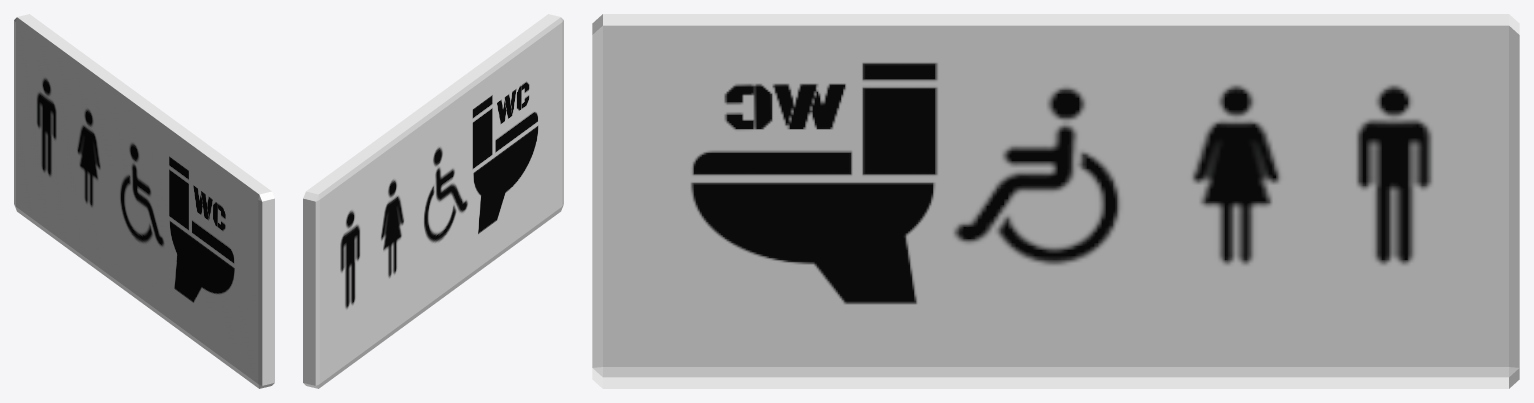
Rendered from WC_Sign.FBX.
The picture shows the model from 3 angles, left to right: view 1: azimuth 30°, elevation 25°; view 2: azimuth 150°, elevation 25°; view 3: azimuth 270°, elevation 25°; orthographic projection. The views are drawn at different scales.
Parts seen in each view (by area): view 1: WC_Sign; view 2: WC_Sign; view 3: WC_Sign.
Boxes of the visible parts, x1,y1,x2,y2 form: WC_Sign: (14, 14, 274, 388); WC_Sign: (303, 14, 563, 388); WC_Sign: (592, 14, 1519, 388).
Bounding box in the file's own units: 0.9897 × 13.45 × 31.09.
1 material, 1 textured.
